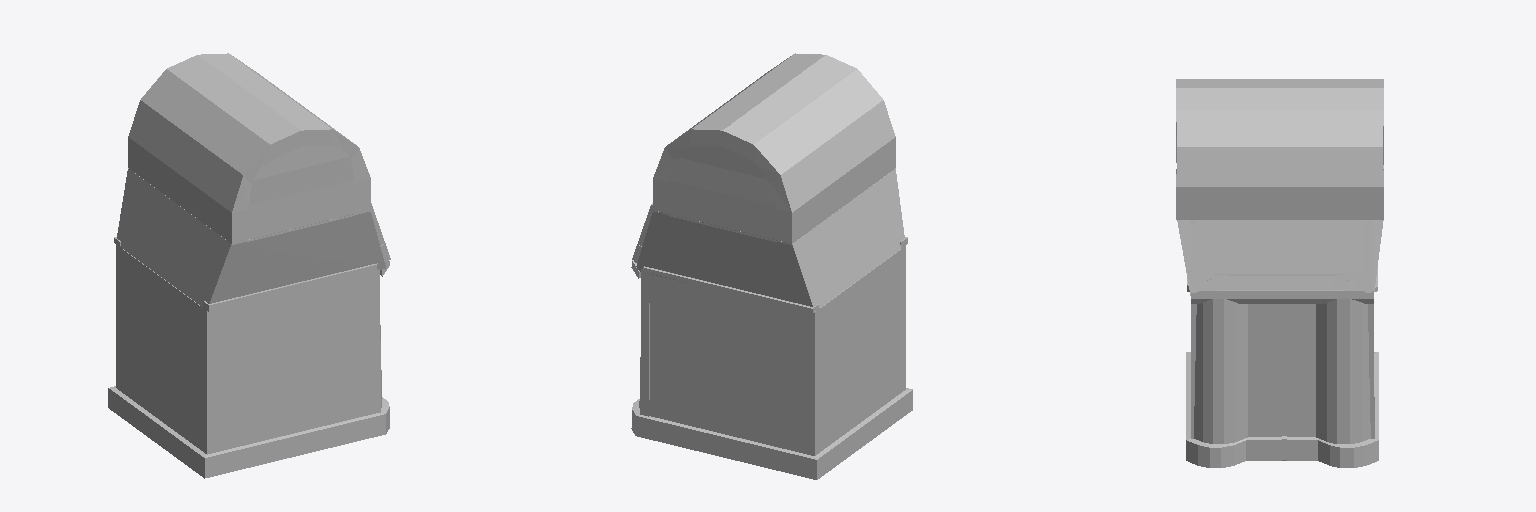
The model's file is jukebox_model.obj.
3 renders of one model, left to right at view 1: azimuth 30°, elevation 25°; view 2: azimuth 150°, elevation 25°; view 3: azimuth 270°, elevation 25°, orthographic.
Visible parts, largest first — view 1: Cube, Cube.011, Cube.009, Cube.012, Cube.010, Cube.015; view 2: Cube, Cube.011, Cube.009, Cube.013, Cube.010, Cube.015; view 3: Cube, Cube.010, Cube.001, Cube.011, Cube.003, Cube.015, Cube.002, Cube.009, Cube.004.
Part boxes in pixels (x1,y1,x2,y2): Cube: (108, 237, 389, 478); Cube.011: (128, 53, 370, 244); Cube.009: (117, 168, 385, 306); Cube.012: (248, 146, 354, 241); Cube.010: (203, 57, 348, 139); Cube.015: (372, 269, 380, 413); Cube: (631, 237, 912, 479); Cube.011: (653, 53, 895, 244); Cube.009: (636, 168, 904, 311); Cube.013: (669, 138, 775, 241); Cube.010: (675, 57, 820, 139); Cube.015: (640, 269, 649, 416); Cube: (1186, 268, 1378, 467); Cube.010: (1186, 88, 1373, 219); Cube.001: (1199, 223, 1363, 290); Cube.011: (1176, 79, 1383, 219); Cube.003: (1191, 291, 1373, 303); Cube.015: (1191, 304, 1374, 438); Cube.002: (1191, 222, 1371, 292); Cube.009: (1177, 165, 1383, 295); Cube.004: (1190, 220, 1371, 222).
Bounding box in the file's own units: 1.4 × 2.24 × 1.28.